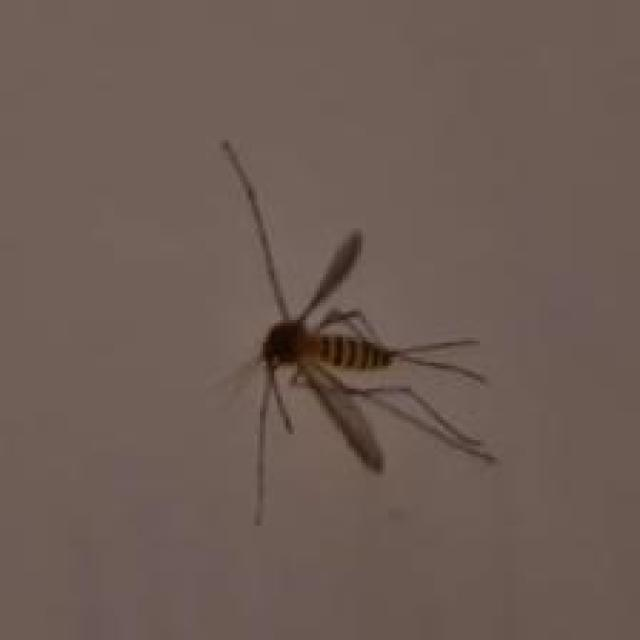Culex: (209, 137, 500, 526)
